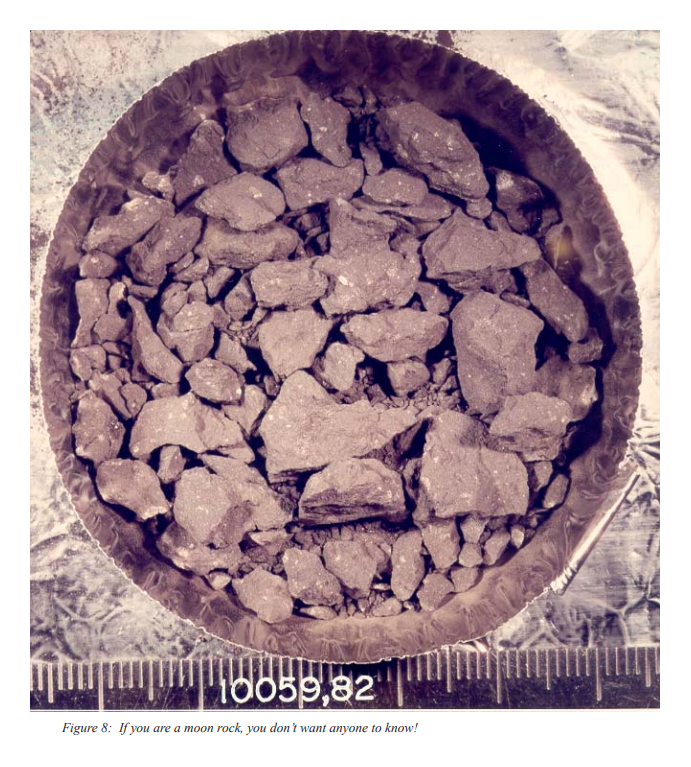Breccia: (101, 79, 638, 681)
